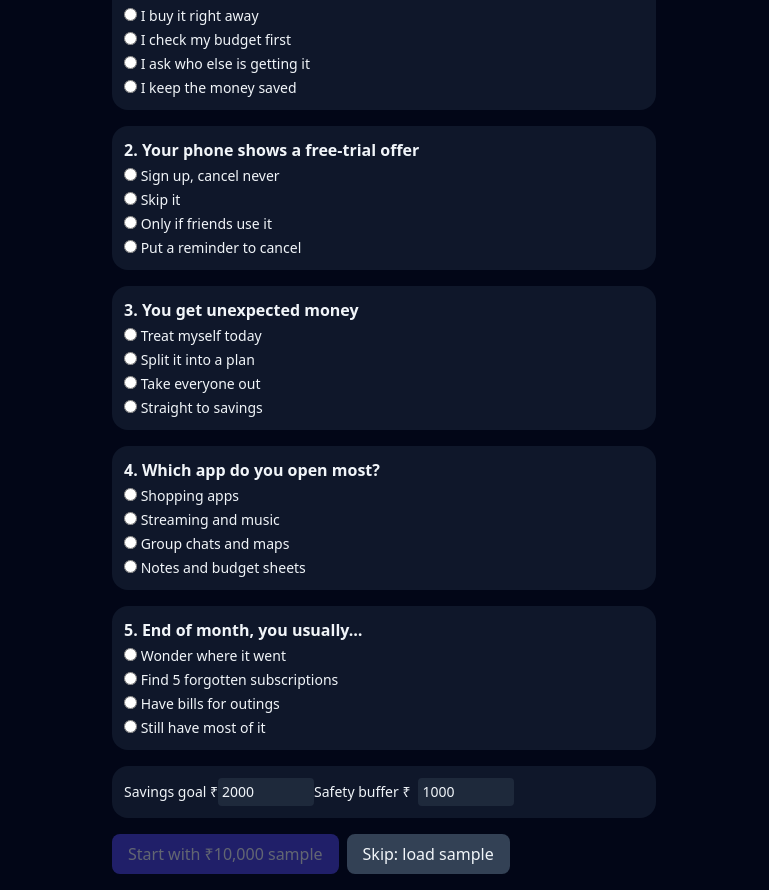
Test: full app flow › onboarding -> home shows the seed numbers -> decide shows the Reality Translator
(page scrolled)
Step 1. Click the button "Skip: load sample" → x=428, y=854, box top-left (347, 834), bottom-right (510, 874)
(page scrolled)
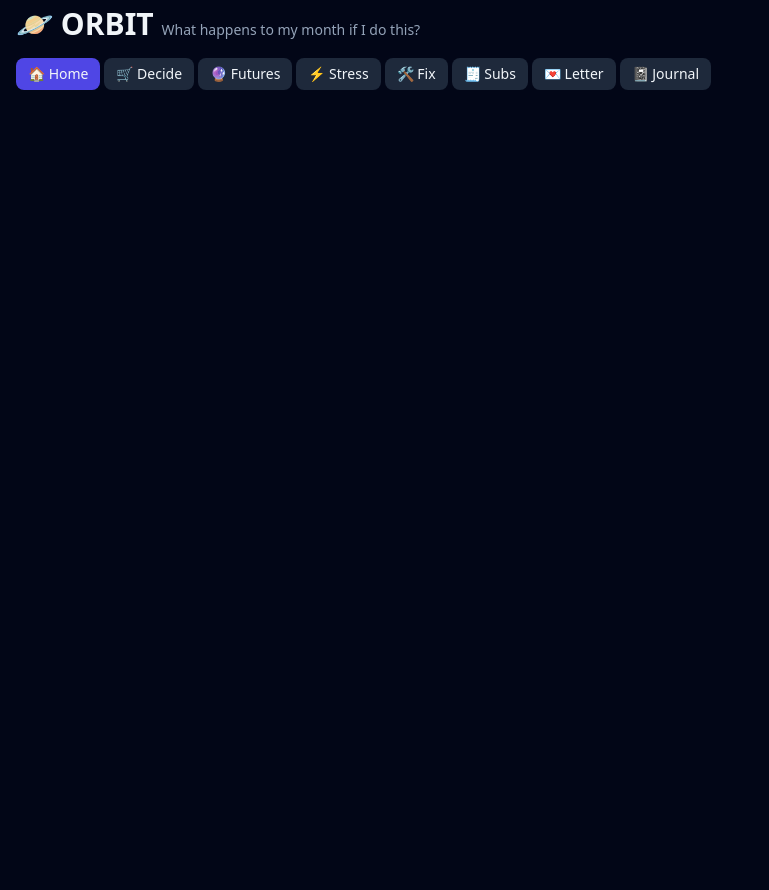
Step 2. Click the button "🛒 Decide" → x=149, y=74, box top-left (104, 58), bottom-right (194, 90)
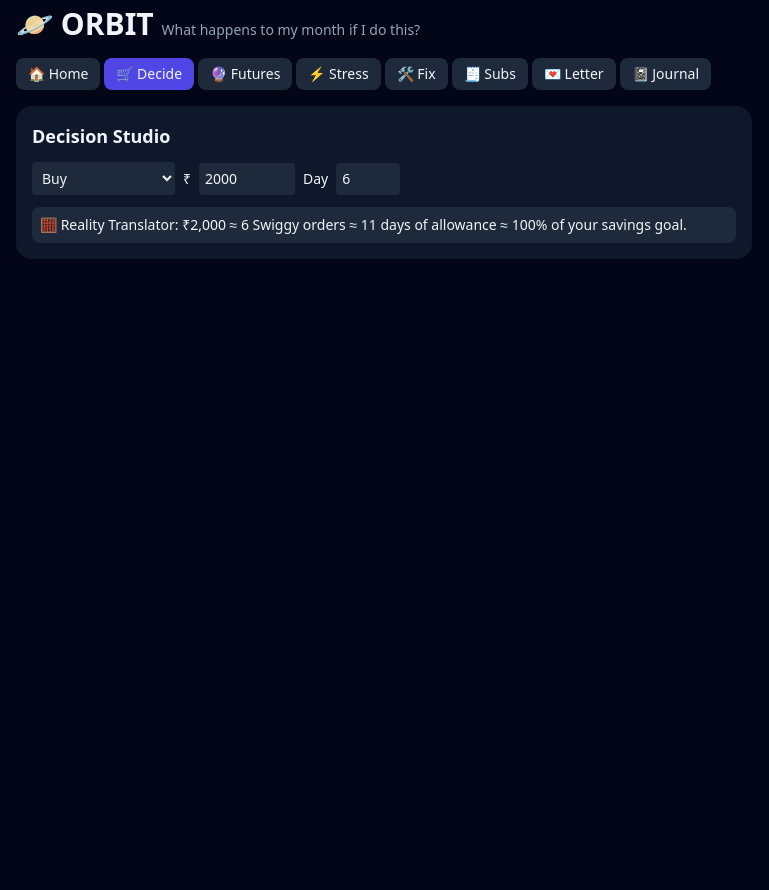
Check: the text "6 Swiggy orders" is shown, box top-left (32, 207), bottom-right (736, 243)
Check: the number field named "Amount in rupees" is shown, box top-left (199, 162), bottom-right (295, 194)
